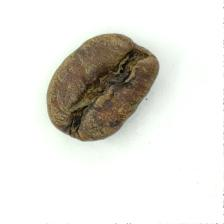NG: (56, 37, 146, 130)
